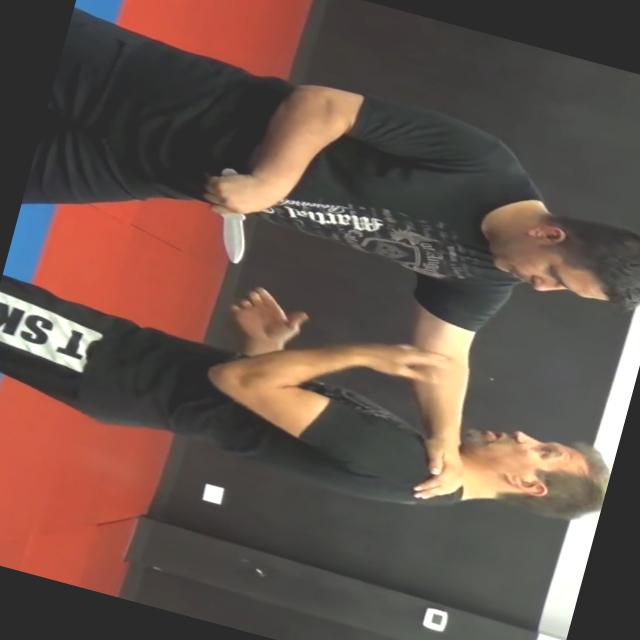knife: (188, 161, 272, 269)
